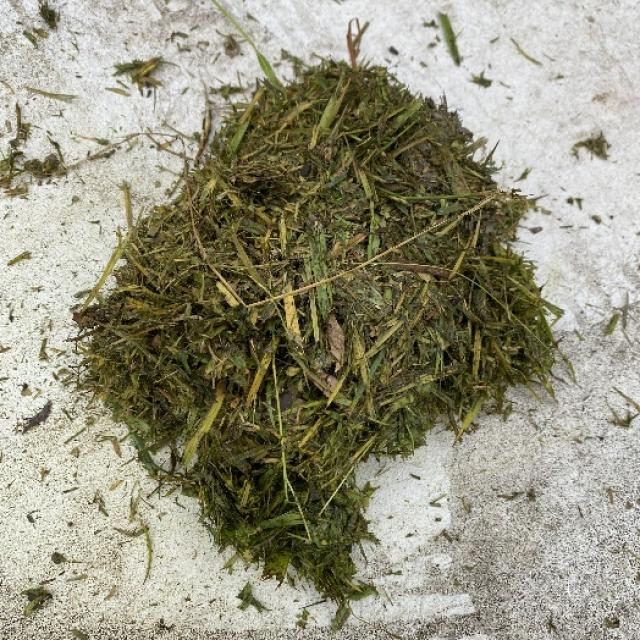organik: (68, 34, 559, 590)
